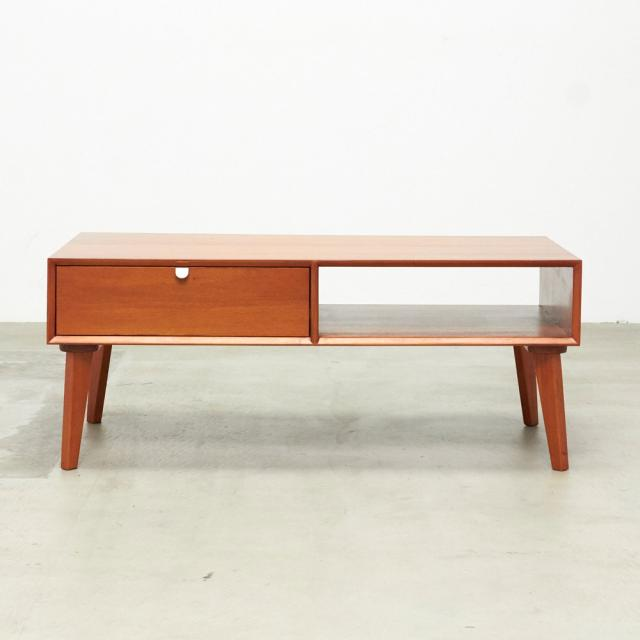vintage shelf: (43, 222, 587, 477)
